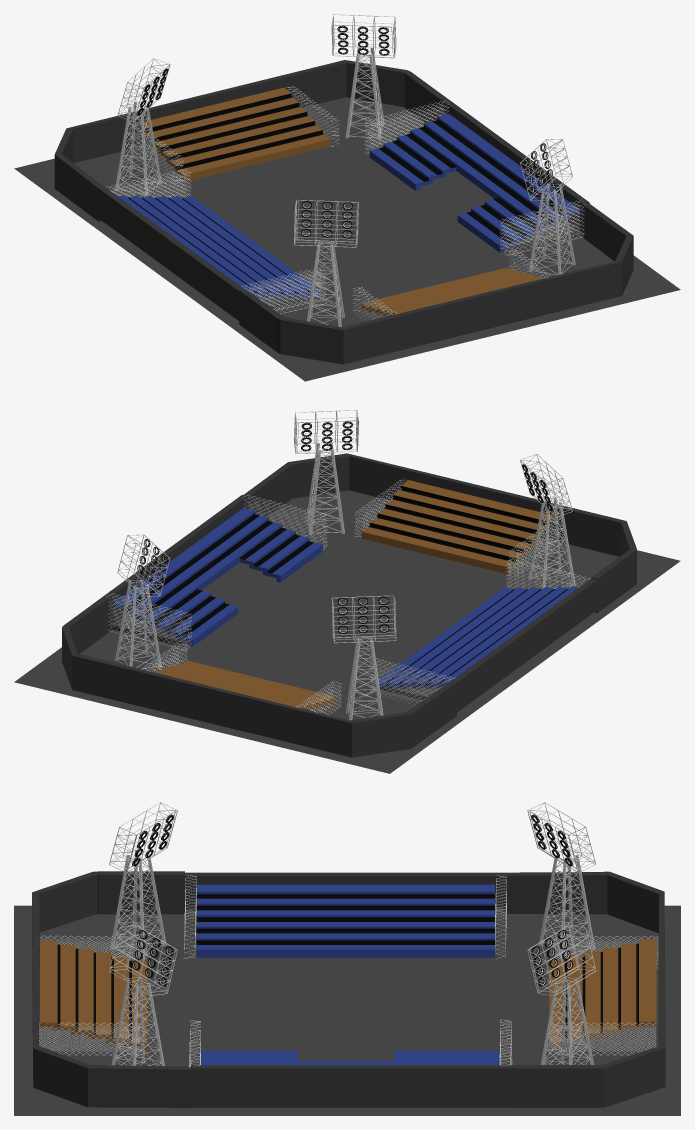
Rendered from estadio.glb.
3 renders of one model, top to bottom at view 1: azimuth 30°, elevation 25°; view 2: azimuth 150°, elevation 25°; view 3: azimuth 270°, elevation 25°, orthographic. The views are drawn at different scales.
Parts seen in each view (by area): view 1: Cube_Material.016_0, Cube.007_Material.015_0, Cube.001_Material.030_0, Cube.016_Material.033_0, Cube.001_Material.031_0, Cube.003__0, Fener_Material.035_0, Fener_Material.036_0, Fener_Material.038_0, Fener.002_Material.049_0, Fener.002_Material.047_0, Fener.003_Material.010_0 (+4 smaller); view 2: Cube_Material.016_0, Cube.007_Material.015_0, Cube.001_Material.030_0, Cube.016_Material.033_0, Cube.001_Material.031_0, Cube.003__0, Fener_Material.035_0, Fener_Material.038_0, Fener_Material.036_0, Fener.002_Material.048_0, Fener.003_Material.006_0, Fener.003_Material.007_0 (+4 smaller); view 3: Cube_Material.016_0, Cube.007_Material.015_0, Cube.001_Material.030_0, Cube.016_Material.033_0, Cube.001_Material.031_0, Cube.003__0, Fener_Material.035_0, Fener_Material.036_0, Fener_Material.038_0, Fener.002_Material.049_0, Fener.003_Material.010_0, Fener.003_Material.007_0 (+5 smaller).
Boxes of the visible parts, bbox=[...] form: Cube_Material.016_0: bbox=[14, 97, 680, 381]; Cube.007_Material.015_0: bbox=[54, 60, 633, 364]; Cube.001_Material.030_0: bbox=[118, 114, 579, 299]; Cube.016_Material.033_0: bbox=[137, 87, 541, 316]; Cube.001_Material.031_0: bbox=[128, 93, 563, 314]; Cube.003__0: bbox=[106, 86, 585, 320]; Fener_Material.035_0: bbox=[307, 184, 575, 326]; Fener_Material.036_0: bbox=[294, 139, 572, 247]; Fener_Material.038_0: bbox=[137, 25, 552, 238]; Fener.002_Material.049_0: bbox=[115, 101, 161, 196]; Fener.002_Material.047_0: bbox=[117, 104, 159, 194]; Fener.003_Material.010_0: bbox=[331, 14, 396, 58]; Cube_Material.016_0: bbox=[14, 490, 680, 773]; Cube.007_Material.015_0: bbox=[62, 453, 636, 757]; Cube.001_Material.030_0: bbox=[113, 508, 577, 689]; Cube.016_Material.033_0: bbox=[153, 480, 554, 710]; Cube.001_Material.031_0: bbox=[127, 486, 568, 708]; Cube.003__0: bbox=[106, 478, 590, 715]; Fener_Material.035_0: bbox=[305, 443, 575, 588]; Fener_Material.038_0: bbox=[137, 421, 552, 633]; Fener_Material.036_0: bbox=[294, 410, 572, 517]; Fener.002_Material.048_0: bbox=[331, 595, 396, 643]; Fener.003_Material.006_0: bbox=[117, 581, 158, 669]; Fener.003_Material.007_0: bbox=[114, 580, 161, 667]; Cube_Material.016_0: bbox=[14, 905, 680, 1115]; Cube.007_Material.015_0: bbox=[32, 871, 665, 1107]; Cube.001_Material.030_0: bbox=[196, 884, 499, 1065]; Cube.016_Material.033_0: bbox=[40, 939, 656, 1050]; Cube.001_Material.031_0: bbox=[57, 894, 638, 1042]; Cube.003__0: bbox=[39, 874, 658, 1067]; Fener_Material.035_0: bbox=[110, 849, 166, 1065]; Fener_Material.036_0: bbox=[109, 802, 177, 995]; Fener_Material.038_0: bbox=[132, 814, 573, 986]; Fener.002_Material.049_0: bbox=[538, 849, 595, 958]; Fener.003_Material.010_0: bbox=[527, 925, 595, 995]; Fener.003_Material.007_0: bbox=[540, 978, 593, 1064].
Size of the model in its own units: 68.86 by 22.04 by 92.36.
Materials: 21 (13 with a texture image).
